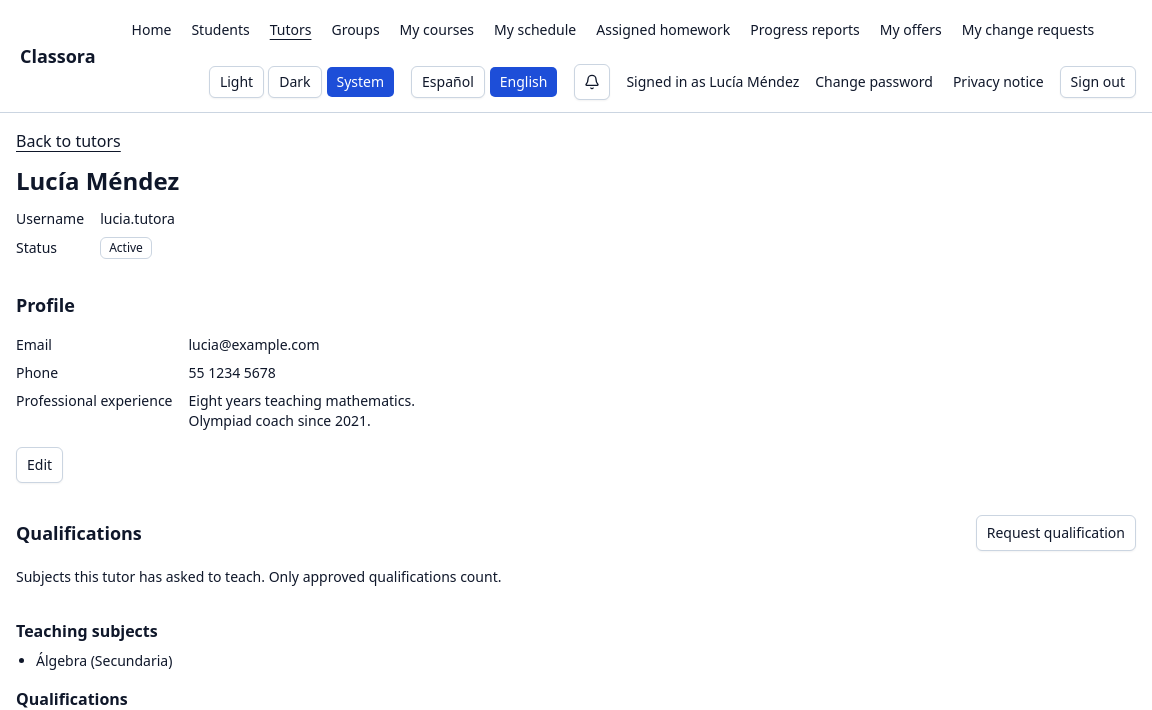
Test: the profile page and form (E3, E4) › the tutor sends the loaded version and only the changed fields
The image size is (1152, 710).
Click the button "Edit": click(40, 465) [16, 447, 63, 483]
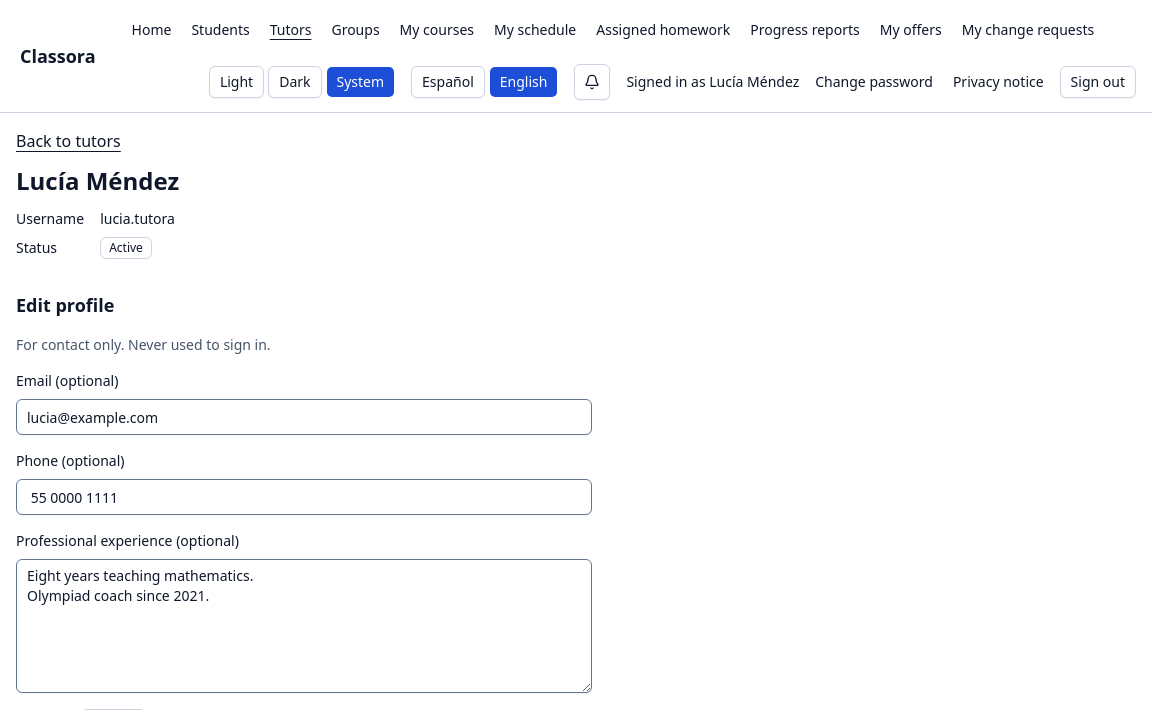
Replace the text in the field labelled "Phone (optional)" with " 55 0000 1111 ": (304, 497) [16, 479, 592, 515]
(page scrolled)
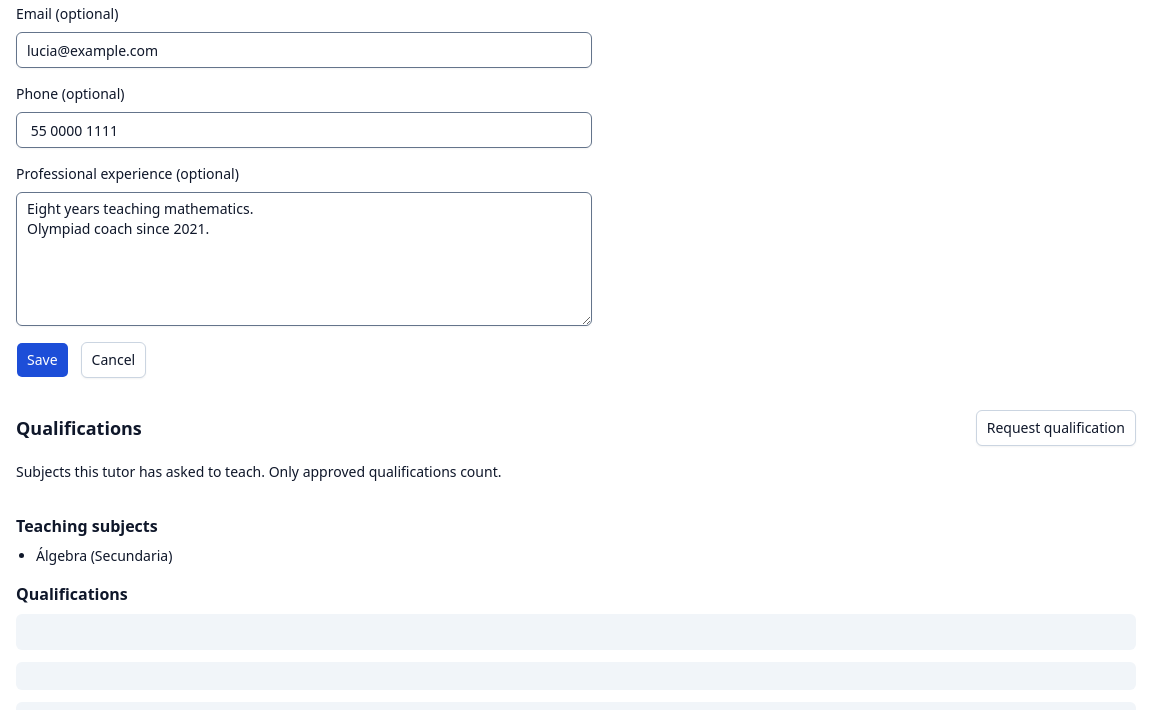
Click the button "Save": click(42, 360) [16, 342, 69, 378]
(page scrolled)
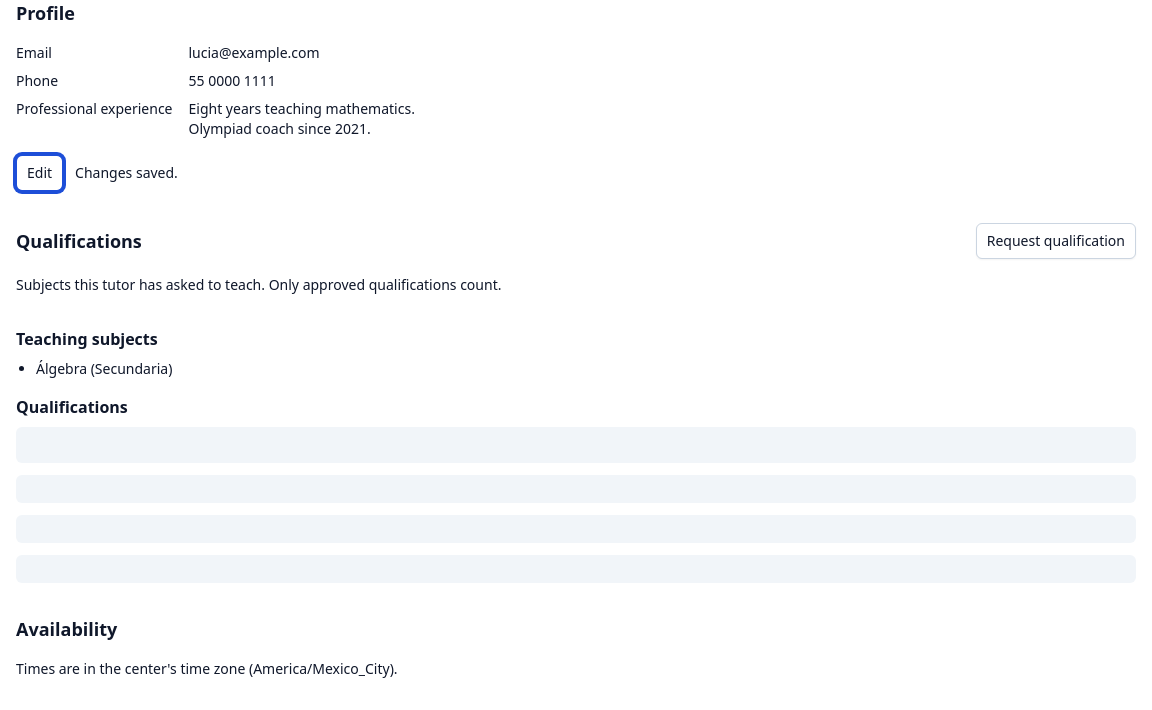
Now the element that starts with "Back to tutors" shows "Changes saved.", box [75, 163, 178, 182]
Now the element that starts with "Back to tutors" shows "55 0000 1111", box [188, 71, 276, 90]
